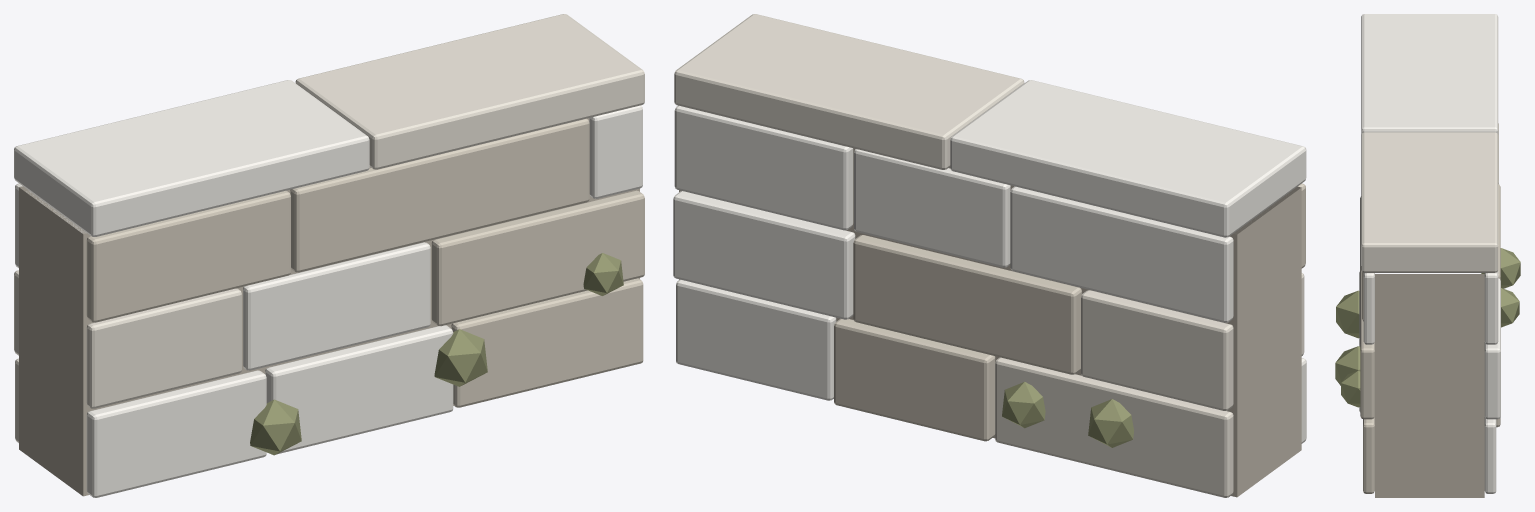
Rendered from GardenWall.fbx.
3 views of the same model, side by side, from view 1: azimuth 30°, elevation 25°; view 2: azimuth 150°, elevation 25°; view 3: azimuth 270°, elevation 25° (orthographic). The views are drawn at different scales.
Parts seen in each view (by area): view 1: GardenWall; view 2: GardenWall; view 3: GardenWall.
Part boxes in pixels (x1=…): GardenWall: x1=14, y1=14, x2=644, y2=497; GardenWall: x1=673, y1=14, x2=1306, y2=497; GardenWall: x1=1335, y1=14, x2=1520, y2=497.
Bounding box in the file's own units: 2 × 1.02 × 0.6762.
